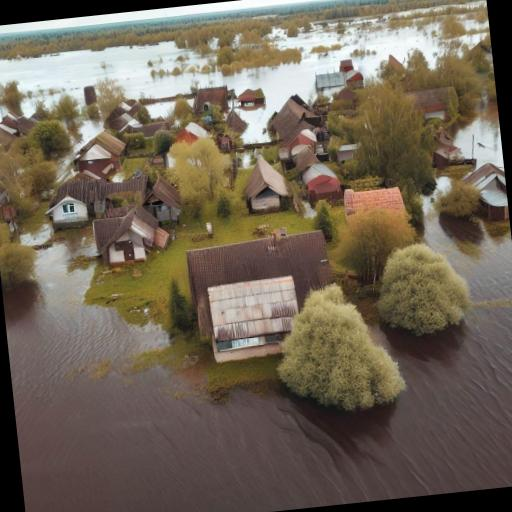flood: (3, 197, 512, 512), (0, 4, 490, 142), (456, 104, 504, 165), (147, 101, 174, 118)
house: (185, 228, 341, 346), (202, 272, 302, 356), (92, 204, 156, 268), (240, 154, 292, 218), (71, 130, 130, 182), (465, 162, 510, 230), (266, 94, 317, 148), (344, 182, 408, 222), (102, 166, 150, 214), (300, 158, 344, 210), (404, 84, 460, 124), (44, 194, 92, 230), (312, 60, 346, 98), (195, 82, 226, 118), (234, 86, 266, 114), (128, 118, 170, 138)
